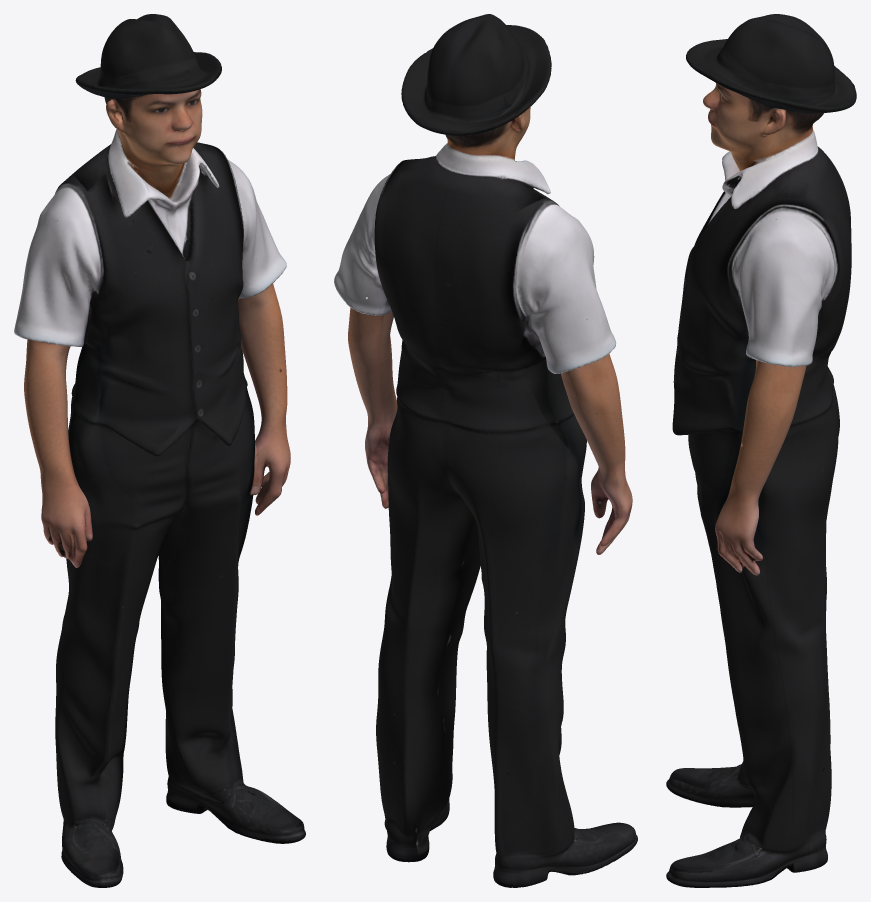
Rendered from cuecavaron.glb.
3 views of the same model, side by side, from view 1: azimuth 30°, elevation 25°; view 2: azimuth 150°, elevation 25°; view 3: azimuth 270°, elevation 25° (orthographic). The views are drawn at different scales.
Parts seen in each view (by area): view 1: tripo_node_e05dfb04-b3d0-43c8-8cad-1a8ae09e1227; view 2: tripo_node_e05dfb04-b3d0-43c8-8cad-1a8ae09e1227; view 3: tripo_node_e05dfb04-b3d0-43c8-8cad-1a8ae09e1227.
Part boxes in pixels (box(x1,y1,x2,y2)): tripo_node_e05dfb04-b3d0-43c8-8cad-1a8ae09e1227: box(14, 14, 305, 887); tripo_node_e05dfb04-b3d0-43c8-8cad-1a8ae09e1227: box(334, 14, 637, 887); tripo_node_e05dfb04-b3d0-43c8-8cad-1a8ae09e1227: box(666, 14, 856, 887).
Bounding box in the file's own units: 0.3446 × 1 × 0.2109.
1 material, 1 textured.
